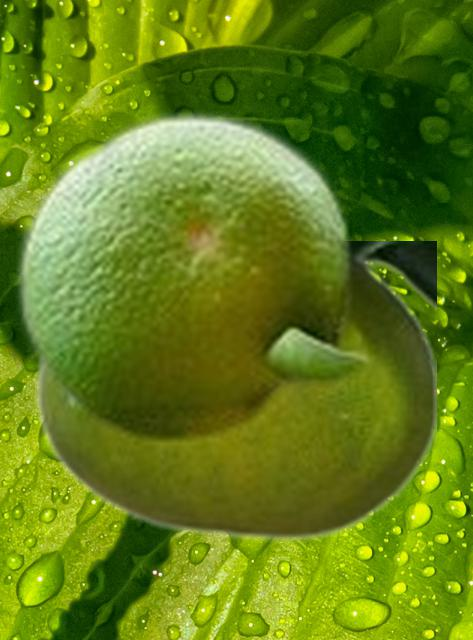dalandan: (12, 106, 378, 444), (35, 241, 435, 541)
